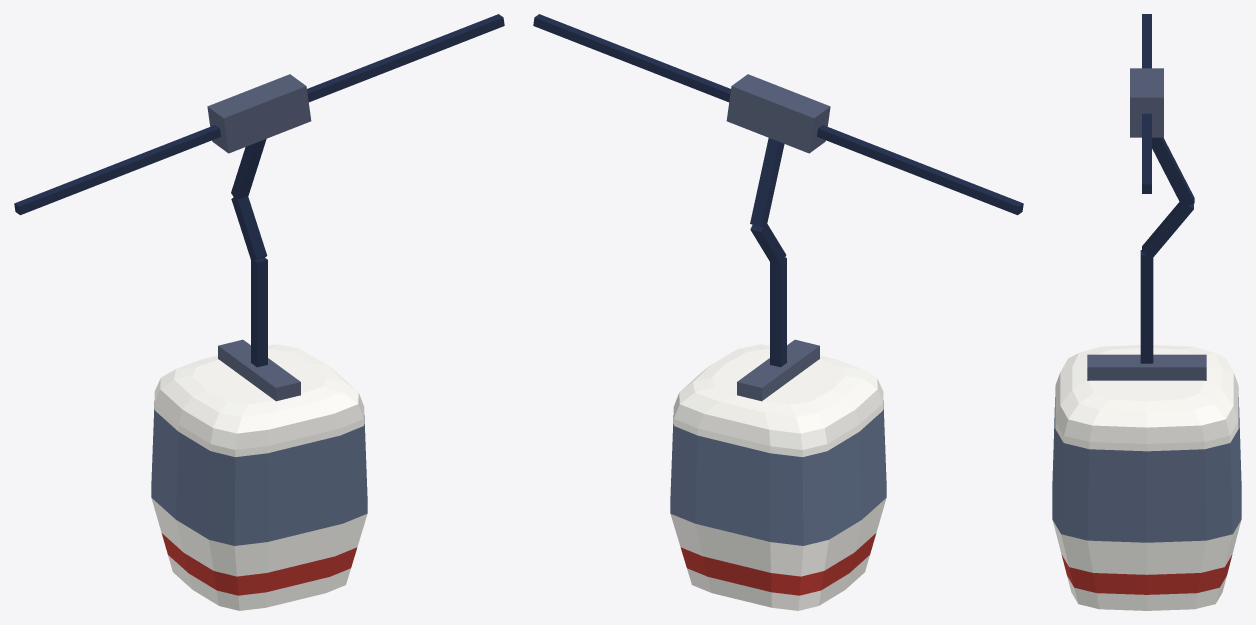
File: gondola.glb
3 renders of one model, left to right at view 1: azimuth 30°, elevation 25°; view 2: azimuth 150°, elevation 25°; view 3: azimuth 270°, elevation 25°, orthographic. The views are drawn at different scales.
Parts seen in each view (by area): view 1: model; view 2: model; view 3: model.
Part boxes in pixels (<box>): model: <box>14,14,504,610</box>; model: <box>533,14,1023,610</box>; model: <box>1052,14,1241,610</box>.
Bounding box in the file's own units: 5.81 × 5.71 × 1.9.
